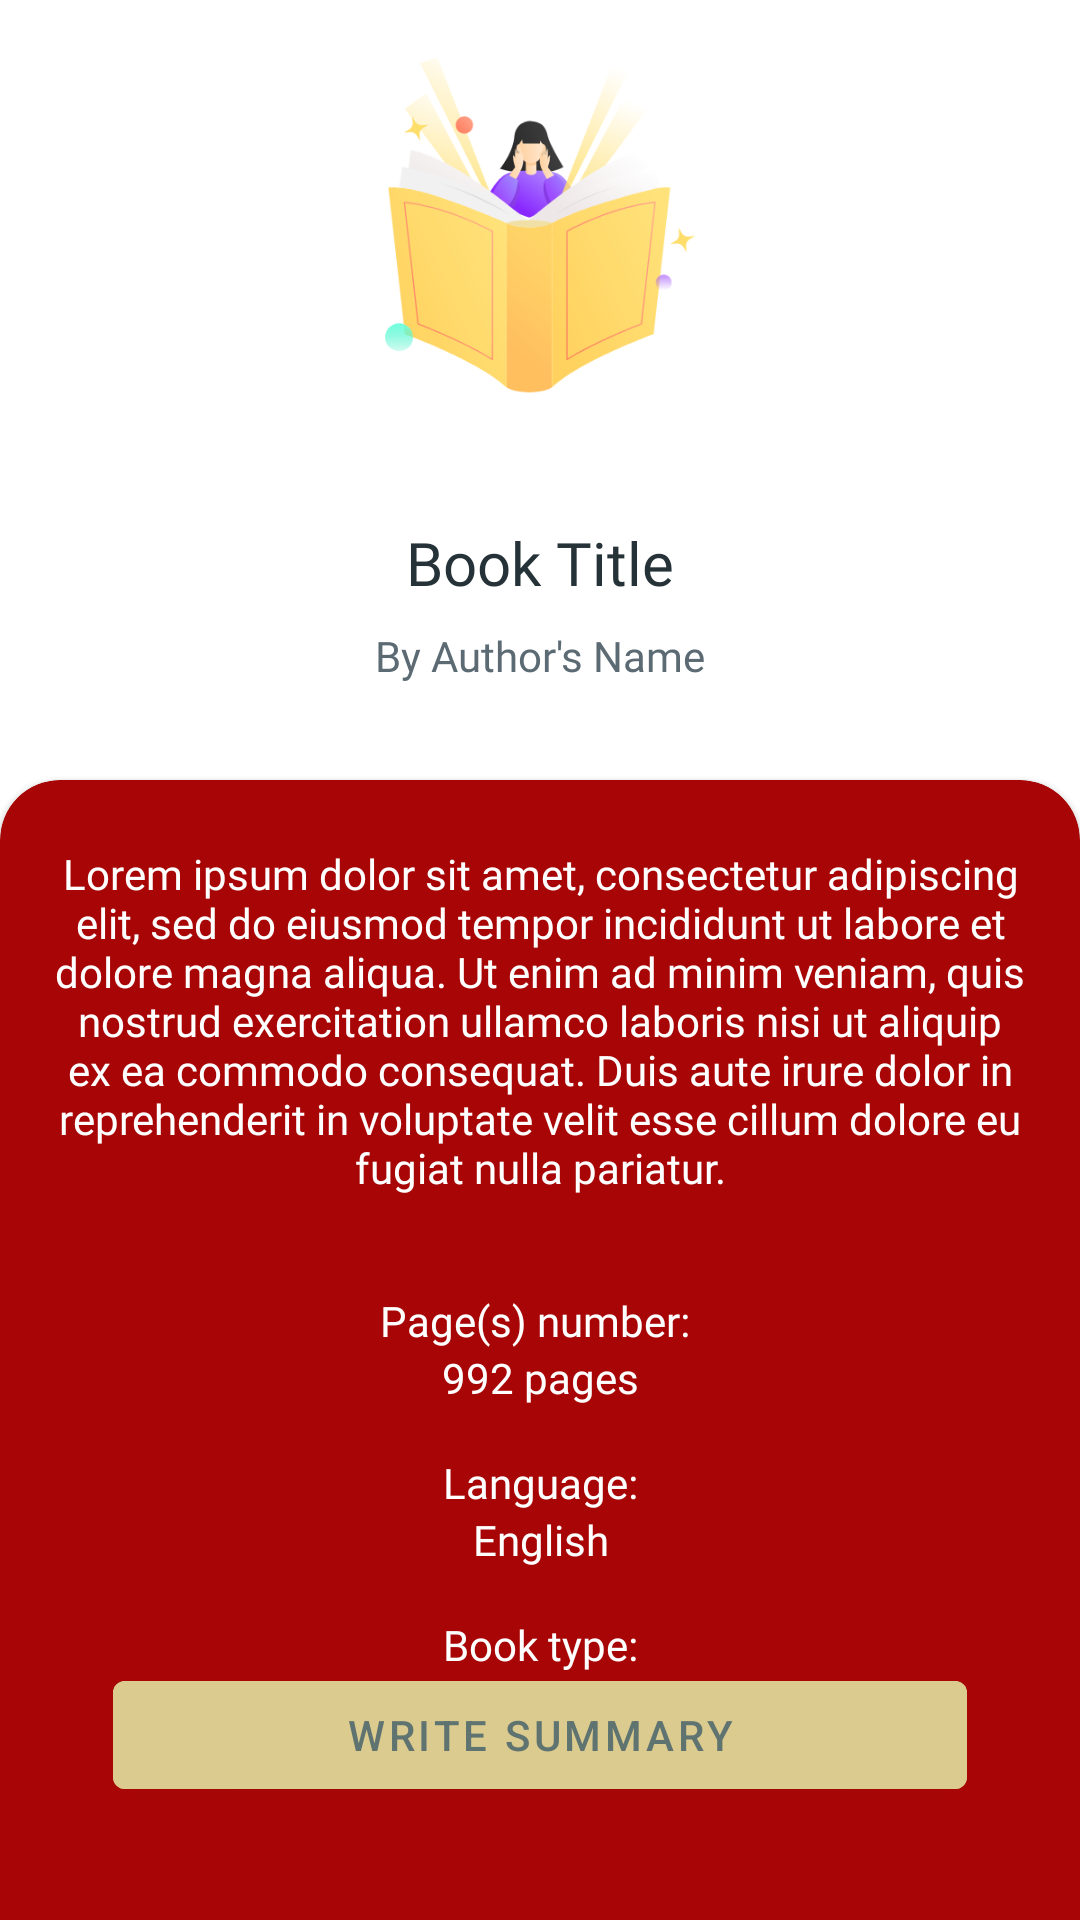

Icons on this 1080x1920 Android screen, each with its box as {"x1": x1, "y1": y1, "x2": x2, "y2": y2}:
books: {"x1": 385, "y1": 63, "x2": 695, "y2": 393}
